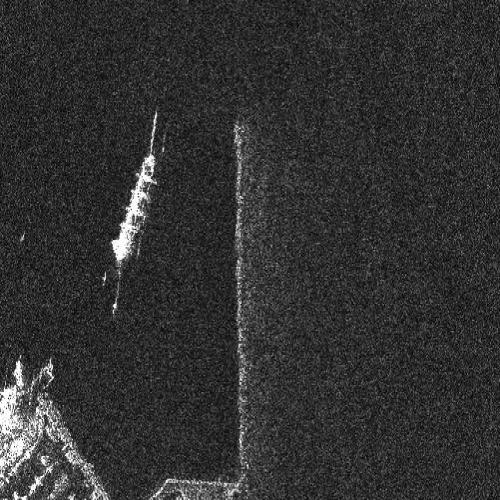ship: (111, 152, 157, 264)
